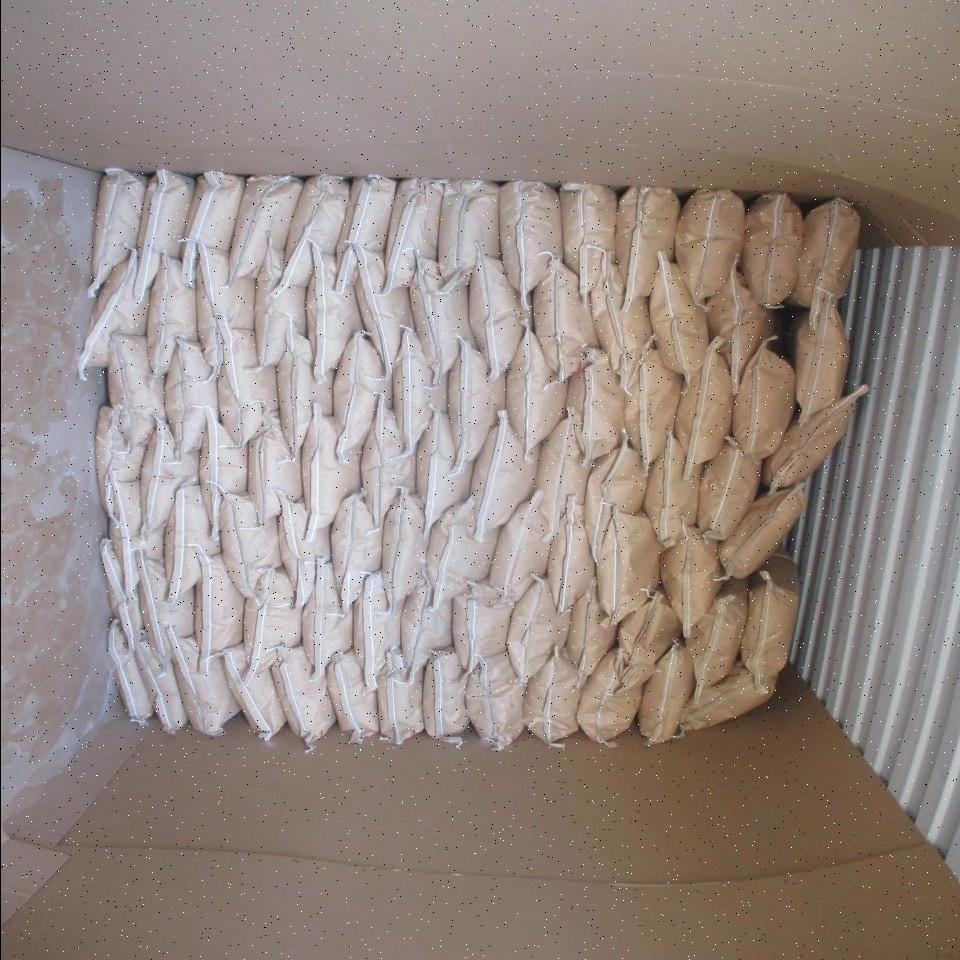bag: (768, 376, 866, 493), (77, 247, 147, 370), (606, 182, 677, 301), (223, 174, 299, 285), (406, 259, 477, 375), (589, 251, 650, 384), (423, 497, 498, 605), (596, 509, 667, 623), (503, 326, 569, 447), (192, 248, 255, 374), (583, 435, 646, 561), (348, 244, 412, 368), (674, 188, 743, 303), (135, 416, 201, 534), (84, 167, 145, 294), (468, 246, 528, 375), (474, 415, 539, 534), (274, 317, 332, 450), (299, 403, 360, 529), (674, 341, 734, 469), (720, 485, 803, 577), (387, 328, 450, 449), (496, 180, 562, 294), (620, 336, 679, 463), (789, 202, 860, 307), (216, 482, 279, 600), (215, 315, 274, 441), (177, 170, 245, 279), (135, 168, 192, 297), (167, 626, 235, 734), (305, 242, 361, 373), (530, 258, 591, 376), (705, 272, 771, 381), (281, 177, 345, 289), (740, 553, 796, 680), (679, 661, 778, 732), (105, 470, 163, 591), (448, 342, 509, 457), (648, 259, 705, 381), (564, 343, 622, 462), (790, 296, 846, 419), (334, 173, 393, 289), (741, 194, 803, 304), (332, 330, 390, 447), (643, 434, 703, 547), (686, 577, 747, 688), (507, 581, 569, 690), (535, 406, 588, 533), (141, 254, 197, 374), (135, 551, 196, 661), (490, 489, 547, 605), (417, 411, 475, 525), (576, 647, 644, 744), (105, 335, 163, 448), (381, 176, 439, 289), (660, 525, 722, 630), (218, 641, 285, 738), (556, 181, 613, 295), (160, 485, 218, 596), (363, 397, 414, 523), (735, 347, 793, 457), (163, 338, 217, 456), (697, 438, 760, 539), (273, 639, 333, 745), (435, 179, 499, 278), (254, 244, 305, 368), (242, 565, 302, 670), (276, 492, 330, 608), (523, 644, 584, 746), (618, 585, 677, 690), (350, 570, 402, 686), (637, 642, 694, 747), (452, 581, 515, 676), (300, 558, 352, 671), (466, 649, 525, 747), (329, 490, 381, 601), (199, 411, 248, 527), (249, 412, 301, 520), (399, 563, 452, 667), (545, 495, 592, 609), (378, 493, 426, 604), (192, 555, 243, 657), (134, 632, 185, 732), (327, 647, 379, 742), (94, 406, 143, 506), (567, 582, 620, 674), (101, 537, 142, 649), (422, 645, 468, 742), (106, 623, 150, 724), (378, 649, 426, 741)
